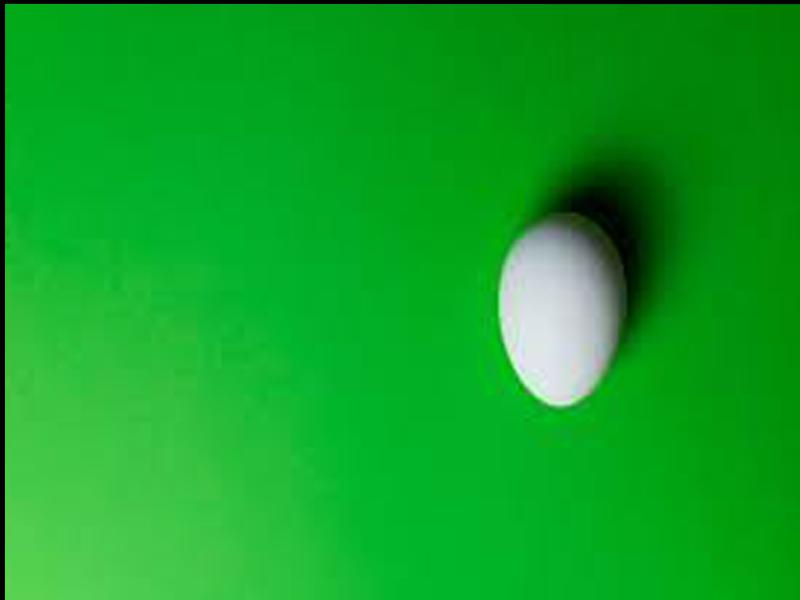Eggs: (500, 212, 626, 407)
